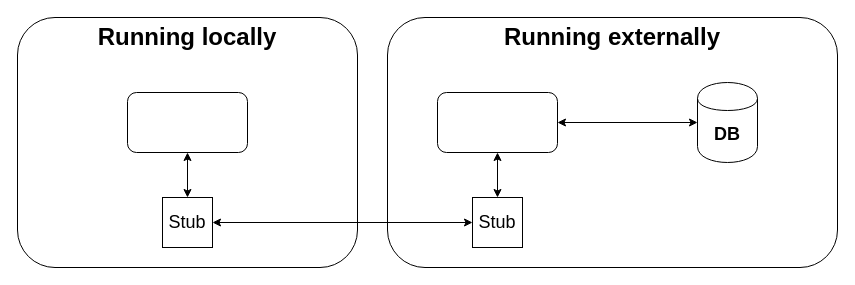
The diagram is 855 pixels wide and 285 high, and some of its shapes have lost their labels. The box of each missing label's shape, as (x1, y1, x2, y2) in pixels:
Client: (126, 92, 248, 152)
gRPC API: (436, 92, 558, 152)
